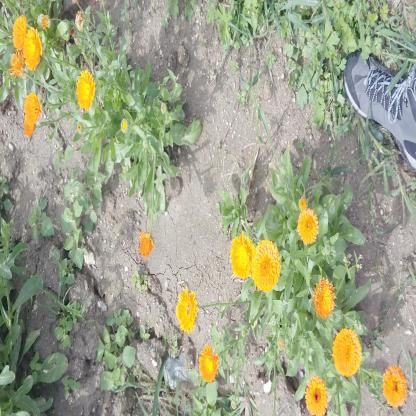marigold: (252, 240, 281, 293), (333, 329, 361, 376), (231, 235, 254, 280), (383, 366, 406, 408), (177, 288, 197, 332), (314, 280, 335, 318), (297, 208, 318, 245), (306, 378, 327, 414), (24, 29, 42, 70), (76, 70, 94, 110), (200, 346, 218, 383), (26, 94, 40, 126), (14, 17, 26, 49)
